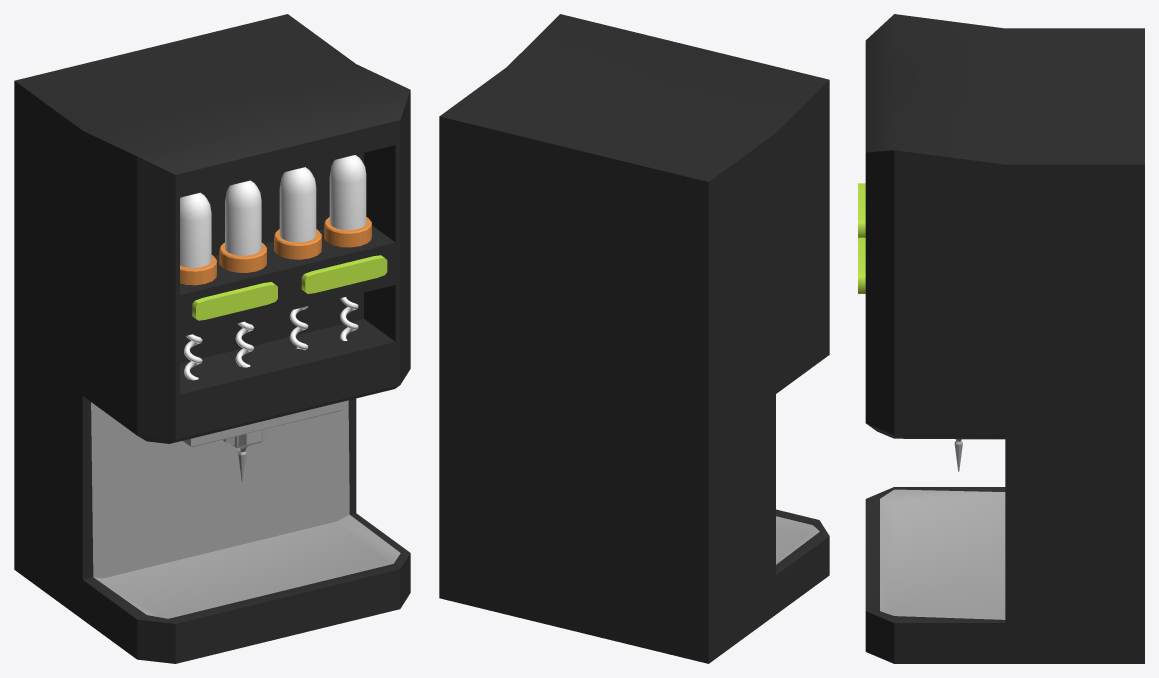
The model's file is EnvironScene_CureDispenserMachiene_03.FBX.
3 renders of one model, left to right at view 1: azimuth 30°, elevation 25°; view 2: azimuth 150°, elevation 25°; view 3: azimuth 270°, elevation 25°, orthographic. The views are drawn at different scales.
Parts seen in each view (by area): view 1: CureMachiene_01; view 2: CureMachiene_01; view 3: CureMachiene_01.
Boxes of the visible parts, x1=… form: CureMachiene_01: x1=14, y1=14, x2=410, y2=663; CureMachiene_01: x1=439, y1=14, x2=829, y2=663; CureMachiene_01: x1=858, y1=14, x2=1144, y2=663.
Size of the model in its own units: 300 by 528 by 267.
